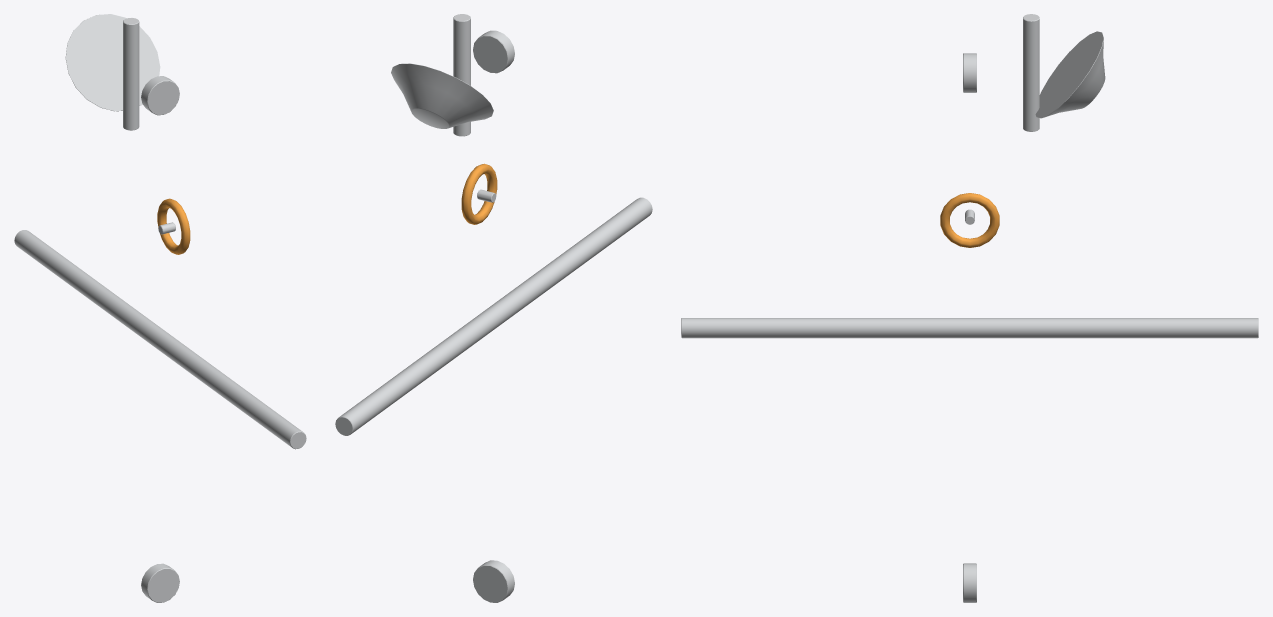
File: LV_shower_head.fbx
The picture shows the model from 3 angles, left to right: view 1: azimuth 30°, elevation 25°; view 2: azimuth 150°, elevation 25°; view 3: azimuth 270°, elevation 25°; orthographic projection. The views are drawn at different scales.
Parts seen in each view (by area): view 1: LV_shower_head; view 2: LV_shower_head; view 3: LV_shower_head.
Boxes of the visible parts, x1=… form: LV_shower_head: x1=14, y1=14, x2=306, y2=602; LV_shower_head: x1=335, y1=14, x2=652, y2=602; LV_shower_head: x1=681, y1=14, x2=1258, y2=602.
Bounding box in the file's own units: 0.2976 × 1.78 × 1.6.
